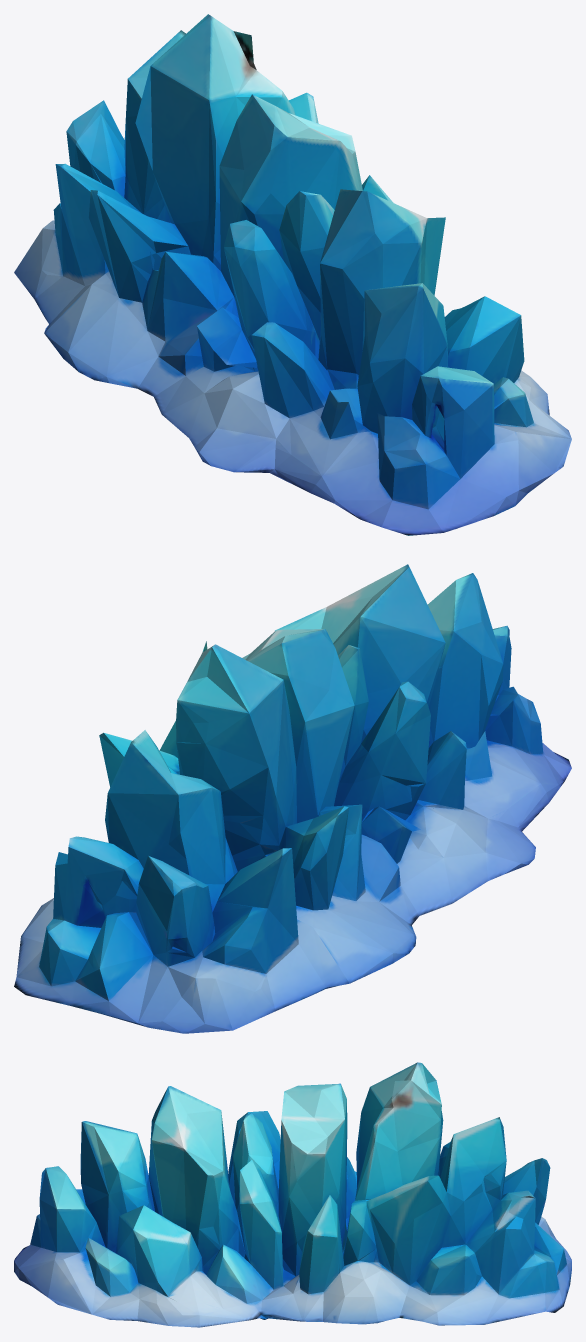
The model's file is snow_iceridge.glb.
3 renders of one model, top to bottom at view 1: azimuth 30°, elevation 25°; view 2: azimuth 150°, elevation 25°; view 3: azimuth 270°, elevation 25°, orthographic. The views are drawn at different scales.
Parts seen in each view (by area): view 1: world; view 2: world; view 3: world.
Part boxes in pixels (x1,y1,x2,y2): world: [14, 14, 571, 535]; world: [14, 564, 571, 1033]; world: [14, 1062, 571, 1327].
Size of the model in its own units: 0.484 by 0.4328 by 0.9995.
1 material, 1 textured.
